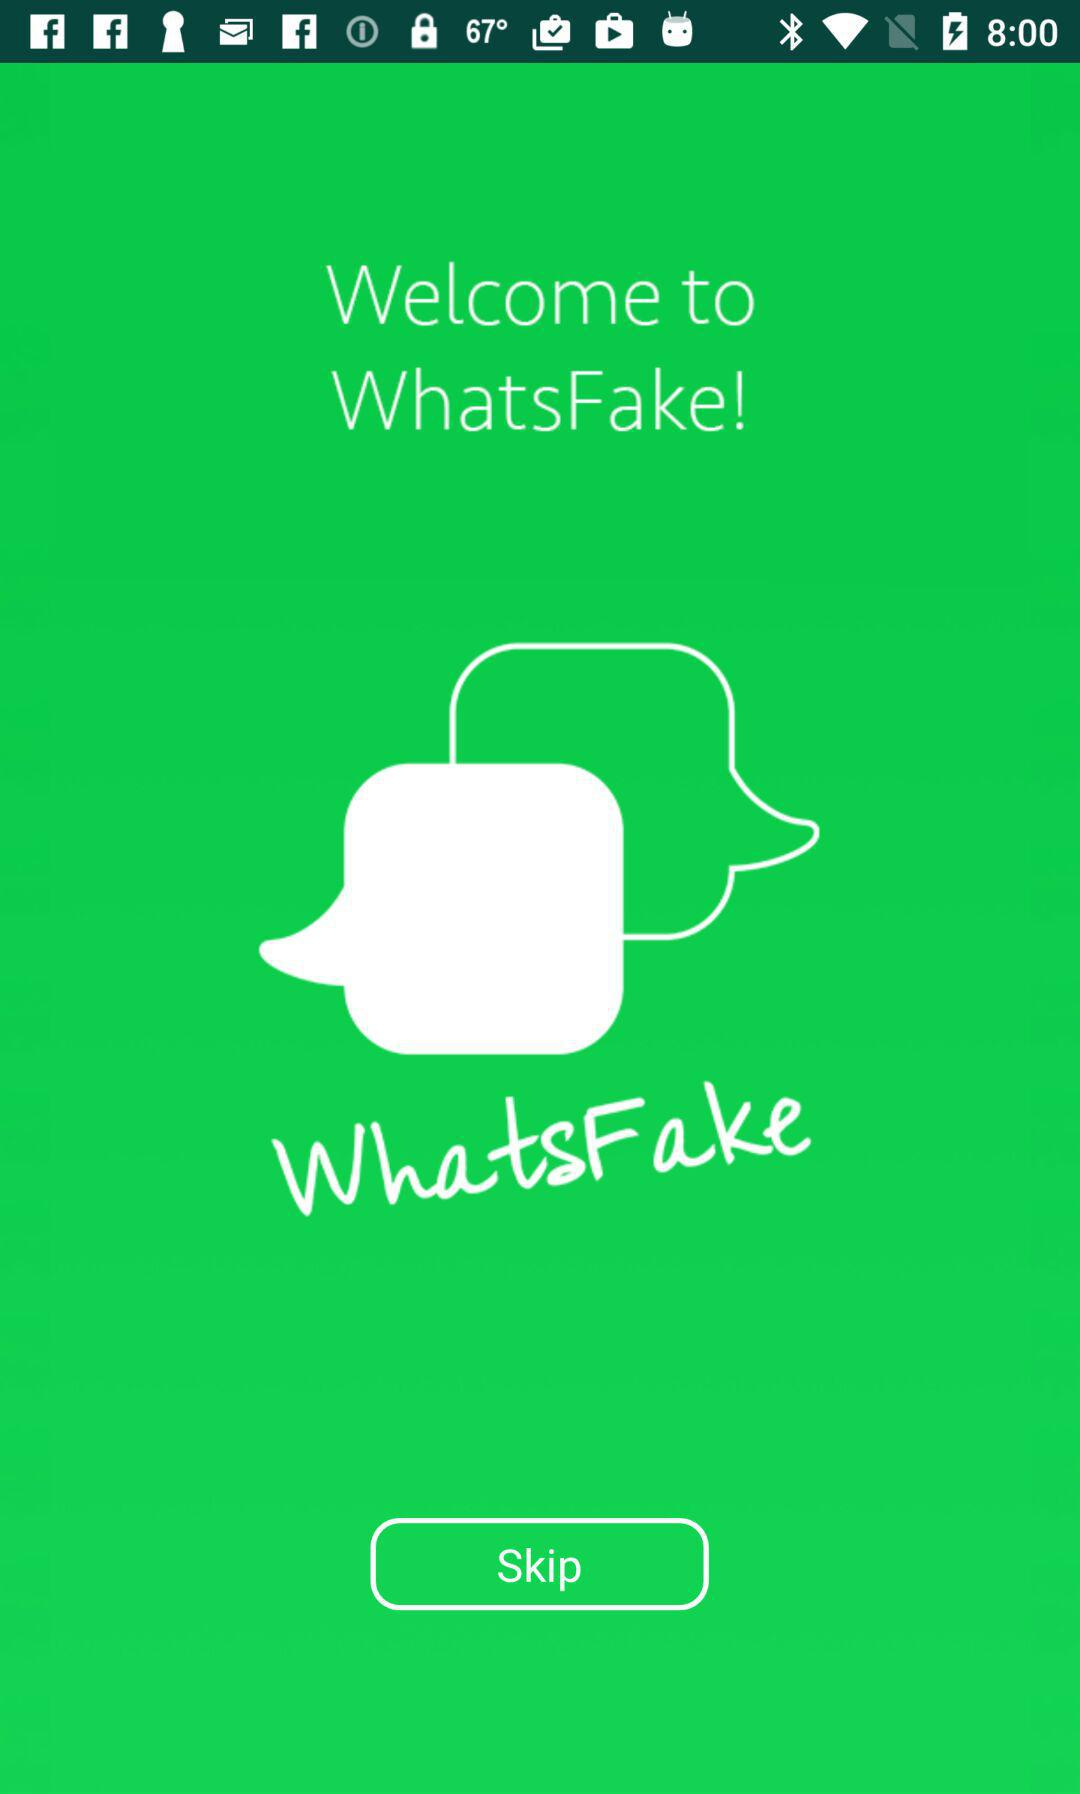Image: (259, 643, 822, 1055), (268, 1083, 810, 1216)
Text: (325, 263, 755, 433)
TextButton: (369, 1517, 711, 1611)
UpperTaskBar: (1, 1, 1080, 64)
